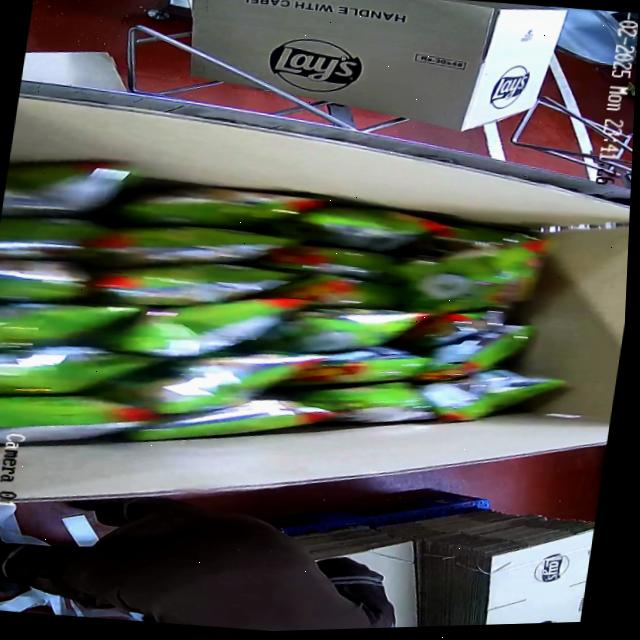YOGURT_HERB: (0, 147, 590, 527)
